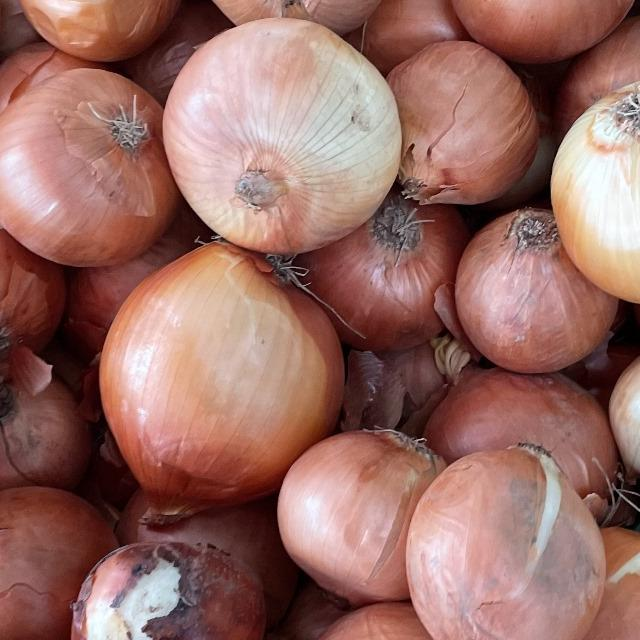onion: (85, 212, 362, 542), (152, 8, 405, 265), (402, 417, 617, 640), (0, 57, 175, 262), (527, 55, 640, 312), (437, 0, 640, 60)
